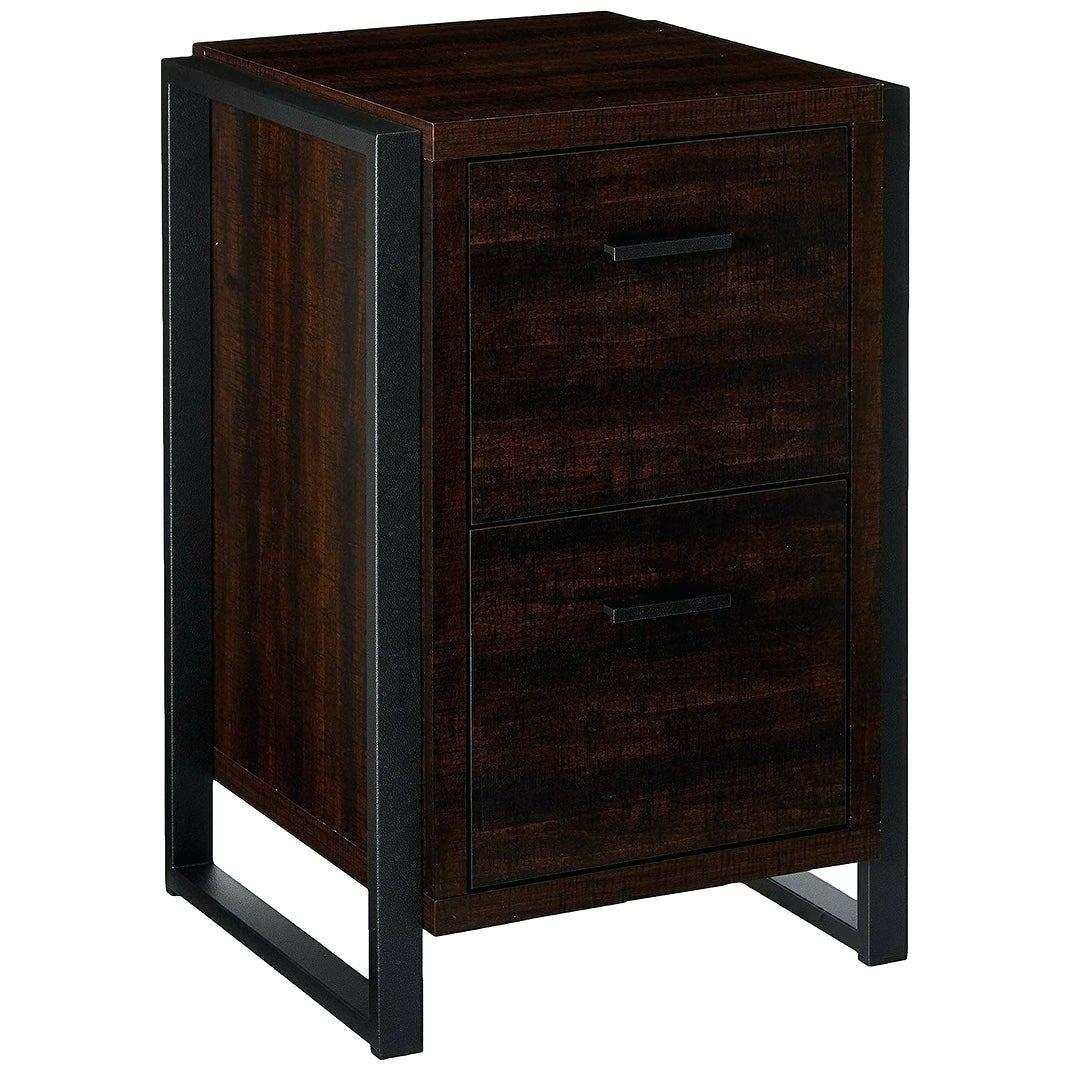cabinet_door: (470, 134, 852, 497), (473, 507, 843, 865)
handle: (595, 217, 745, 289), (594, 578, 744, 640)
